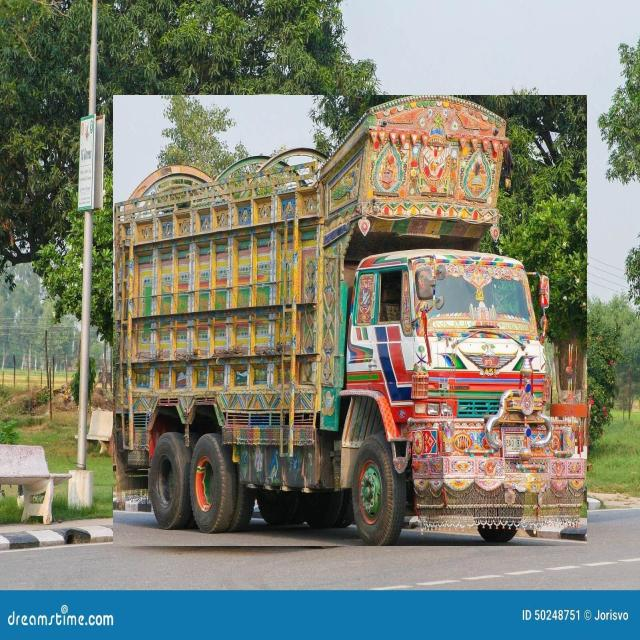truck: (114, 95, 587, 546)
